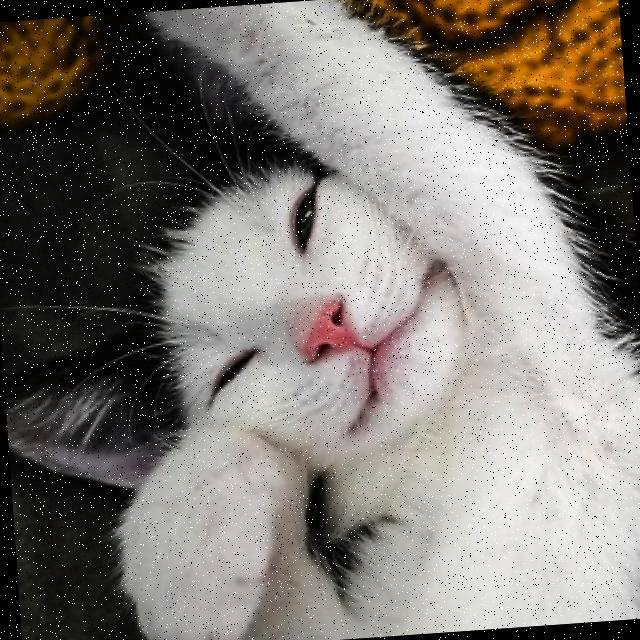Happy: (122, 167, 482, 477)
